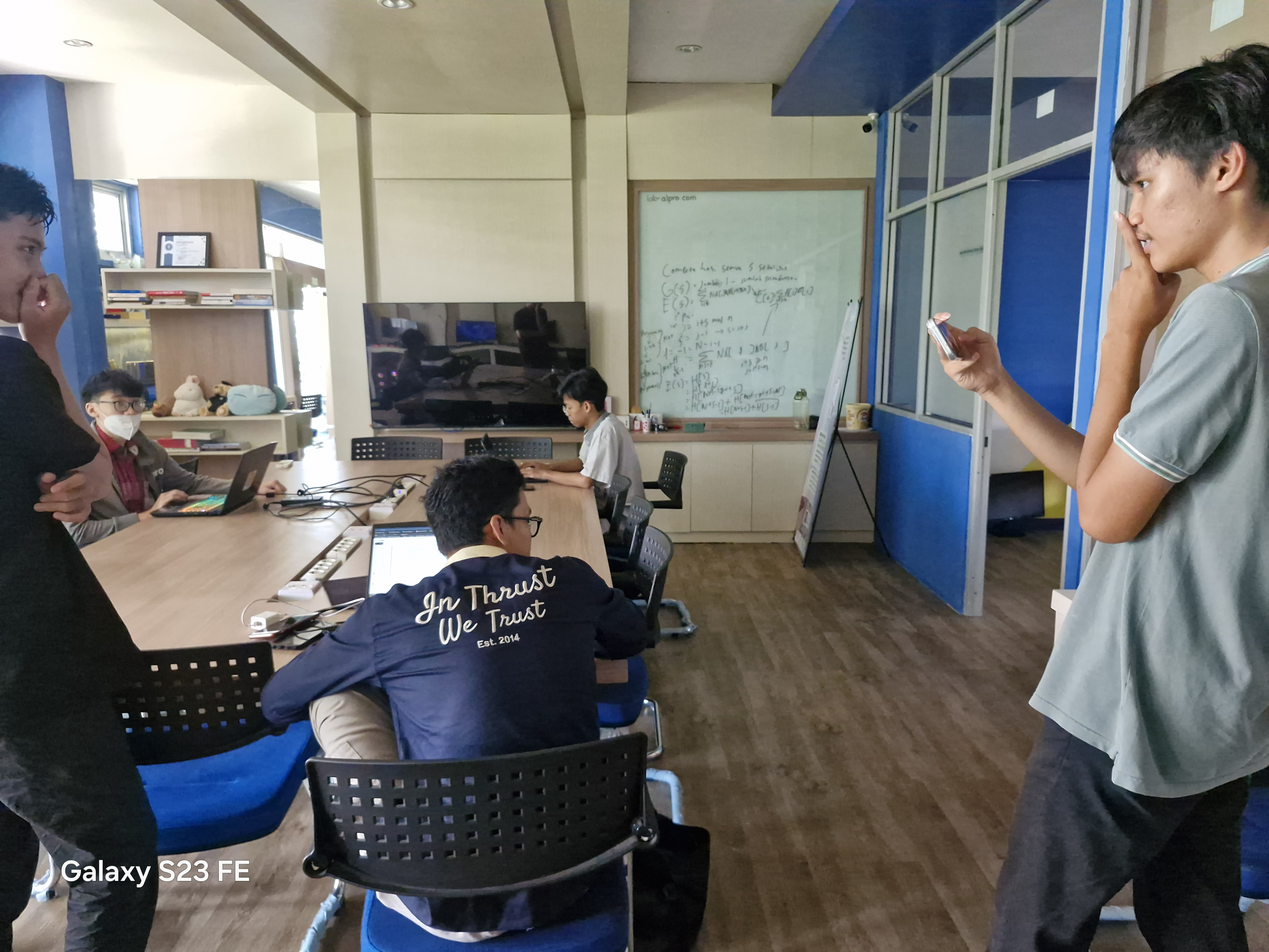ceiling-merged: (0, 0, 875, 113)
cell phone: (926, 313, 962, 359)
chair: (304, 733, 657, 900), (116, 643, 318, 854), (611, 526, 696, 637), (464, 434, 552, 460), (351, 436, 443, 460), (641, 447, 688, 488)
floor-other-merged: (145, 533, 1053, 951), (12, 878, 68, 951), (609, 533, 643, 570)
laptop: (160, 443, 275, 516), (368, 522, 445, 594)
person: (942, 44, 1268, 951), (263, 457, 654, 940), (0, 165, 157, 951), (67, 369, 230, 547), (519, 369, 643, 493)
shelf: (102, 178, 311, 438)
table-merged: (76, 478, 435, 658), (518, 472, 602, 578)
tv: (363, 302, 588, 428)
wall-other-merged: (71, 114, 875, 532), (0, 76, 70, 381)
window-other: (876, 0, 1117, 609)
